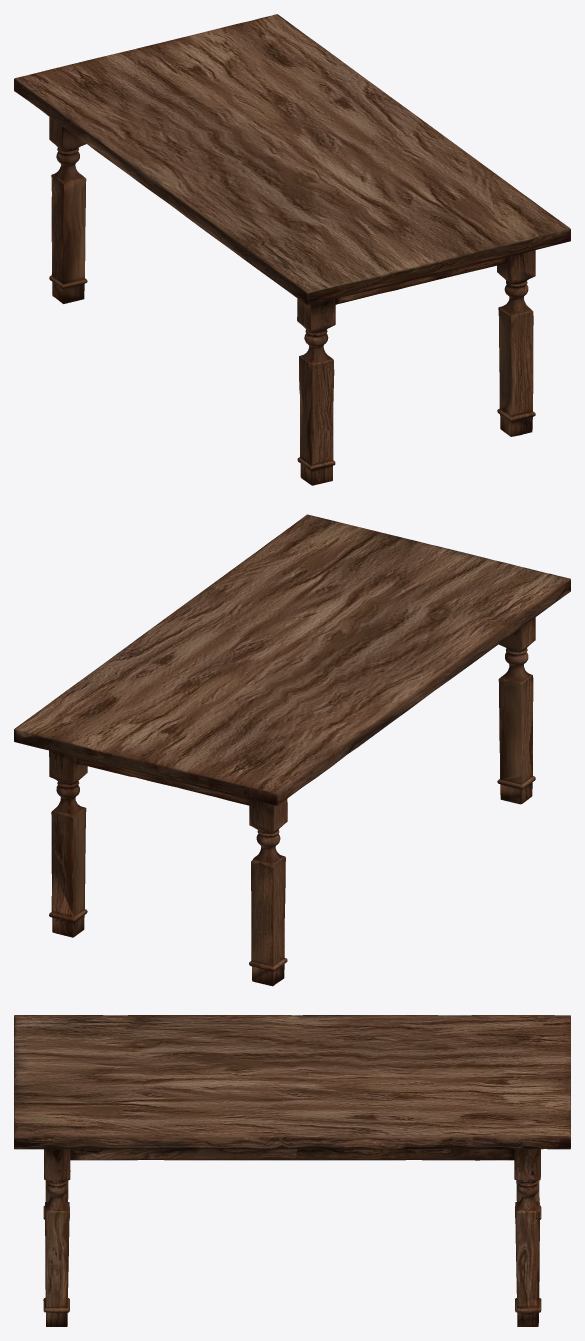
Rendered from mesalarga.glb.
3 views of the same model, one above another, from view 1: azimuth 30°, elevation 25°; view 2: azimuth 150°, elevation 25°; view 3: azimuth 270°, elevation 25° (orthographic). The views are drawn at different scales.
Visible parts, largest first — view 1: tripo_node_207d7b88-d2d7-40e6-9bba-655a9d1b42eb; view 2: tripo_node_207d7b88-d2d7-40e6-9bba-655a9d1b42eb; view 3: tripo_node_207d7b88-d2d7-40e6-9bba-655a9d1b42eb.
Part boxes in pixels (left/top/right/bottom): tripo_node_207d7b88-d2d7-40e6-9bba-655a9d1b42eb: left=14, top=14, right=570, bottom=485; tripo_node_207d7b88-d2d7-40e6-9bba-655a9d1b42eb: left=14, top=514, right=570, bottom=986; tripo_node_207d7b88-d2d7-40e6-9bba-655a9d1b42eb: left=14, top=1015, right=570, bottom=1326.
Bounding box in the file's own units: 0.5197 × 0.397 × 1.
Materials: 1 (1 with a texture image).
